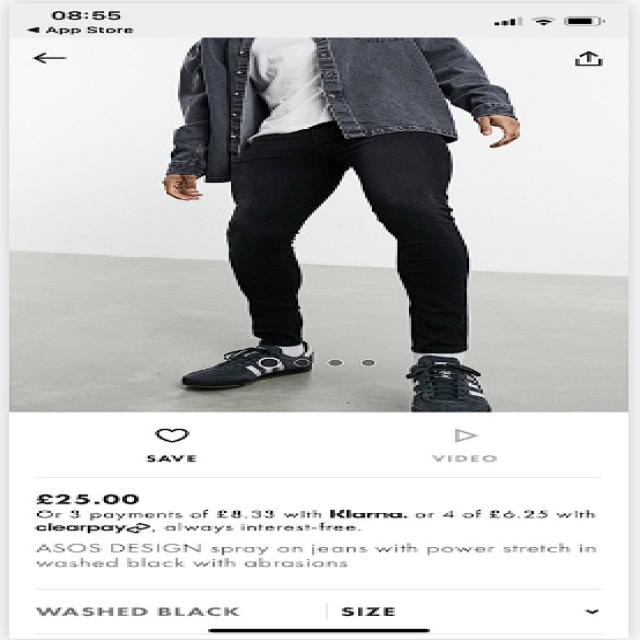icon button: (419, 422, 516, 474), (125, 420, 220, 473), (558, 40, 627, 72), (15, 41, 91, 67)
image: (0, 70, 640, 409)
text: (15, 480, 627, 583)
